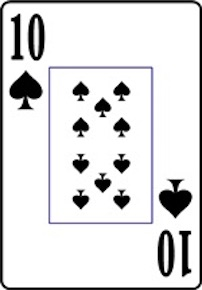TenOfSpades: (2, 3, 200, 290)
